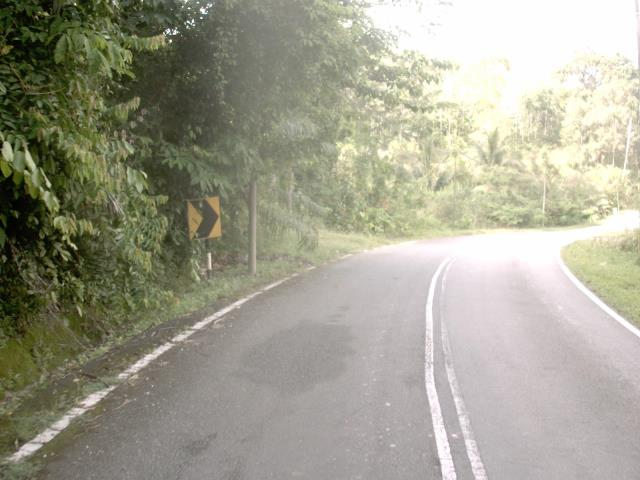traffic_sign: (180, 187, 230, 249)
